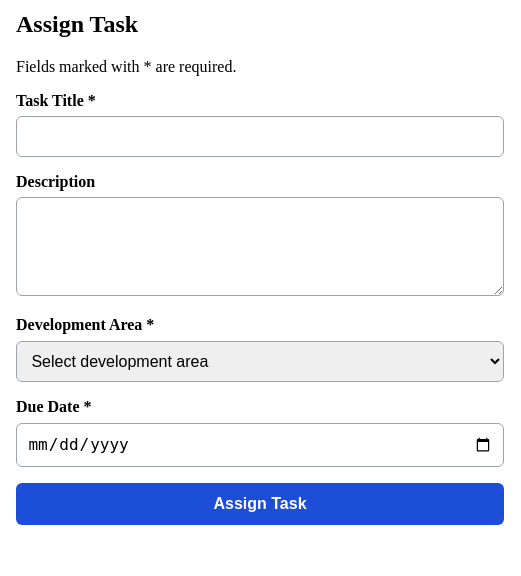
Test: TaskForm › shows an expired session message for HTTP 401
The width and height of the screenshot is (521, 576).
Type "Read a book" into the field labelled "Task Title *" at [260, 137], box [16, 116, 504, 157]
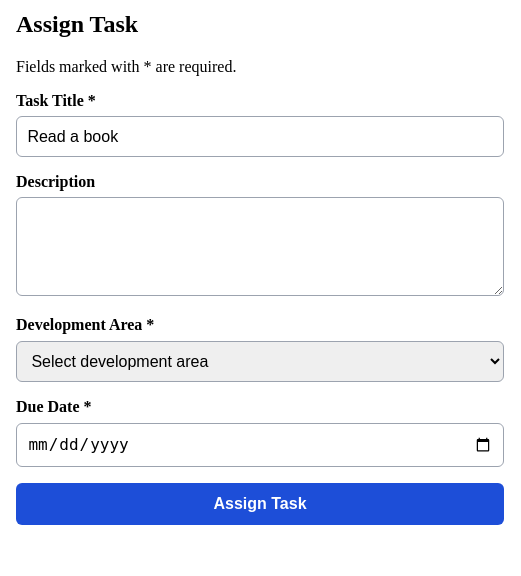
Type "Read for 15 minutes" into the text box labelled "Description" at [260, 247], box [16, 197, 504, 296]
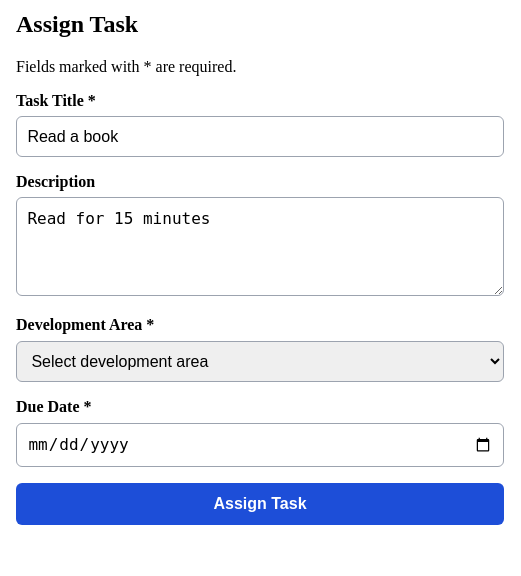
Select "Language" in the dropdown labelled "Development Area *" at [260, 361], box [16, 340, 504, 382]
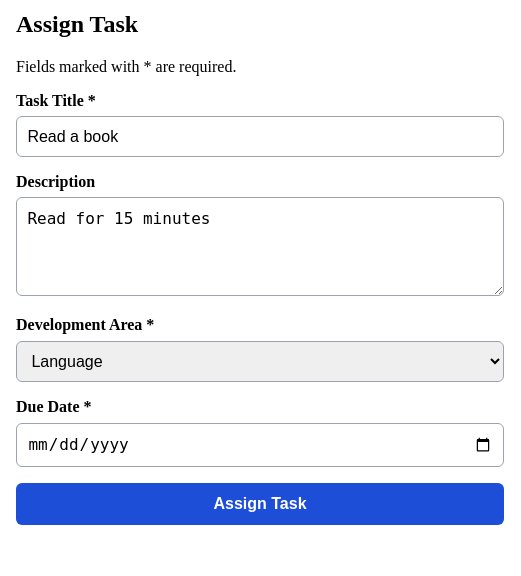
Type "2026-12-01" into the date field labelled "Due Date *" at [260, 445], box [16, 423, 504, 466]
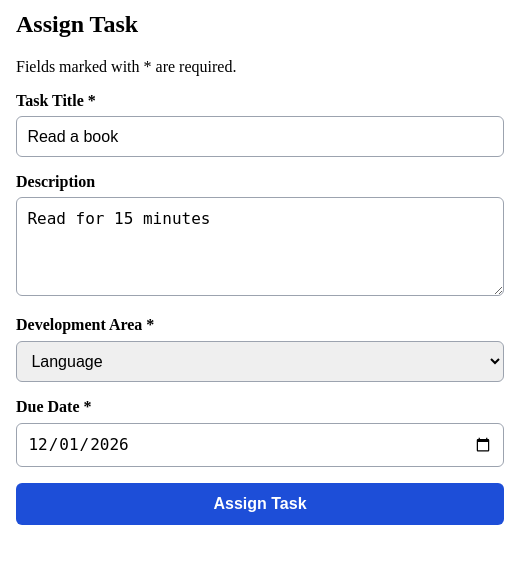
Click the button "Assign Task" at [260, 504], box [16, 482, 504, 524]
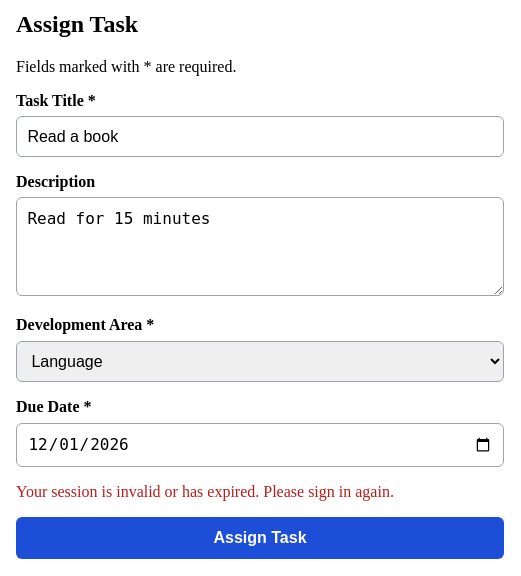
Expected: the message reads "Your session is invalid or has expired. Please sign in again.", [16, 482, 394, 500]
